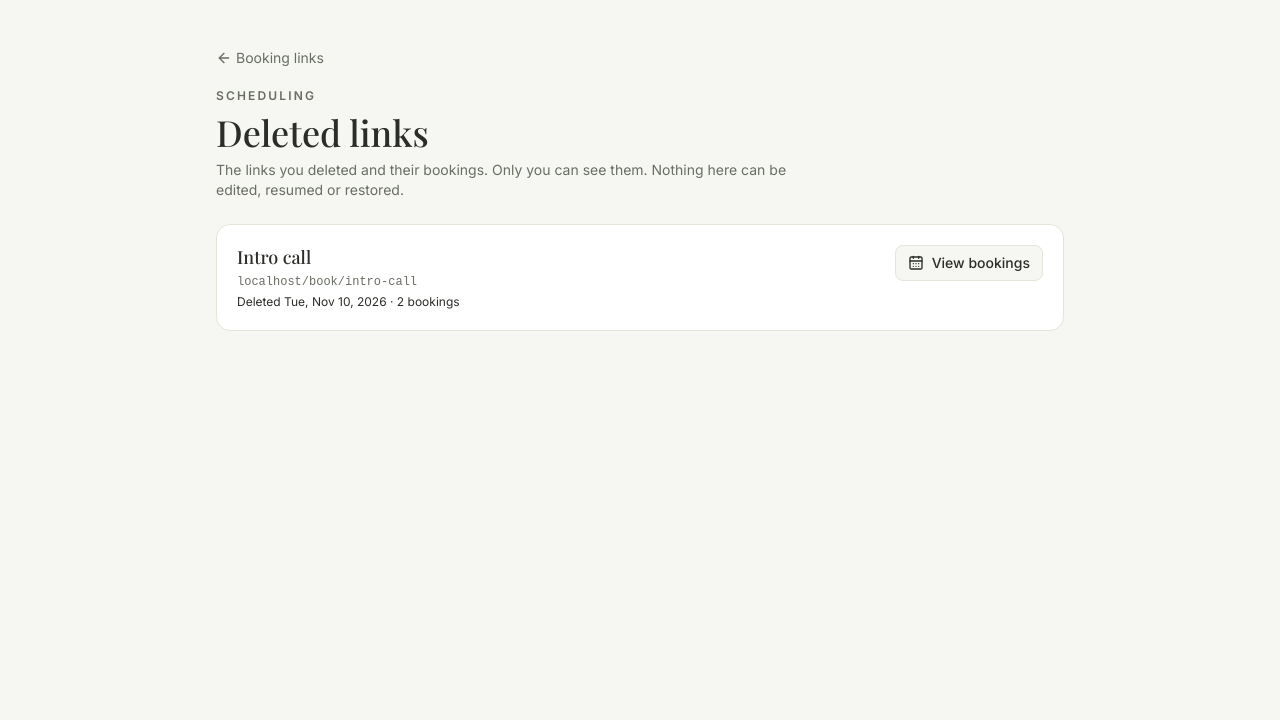
Test case: PAC-40 archive page › K4-7 on the detail: a body that fails the schema shows the detail as unavailable
Click the button with test id "archive-view-bookings" at x=969, y=263, box [895, 245, 1043, 281]
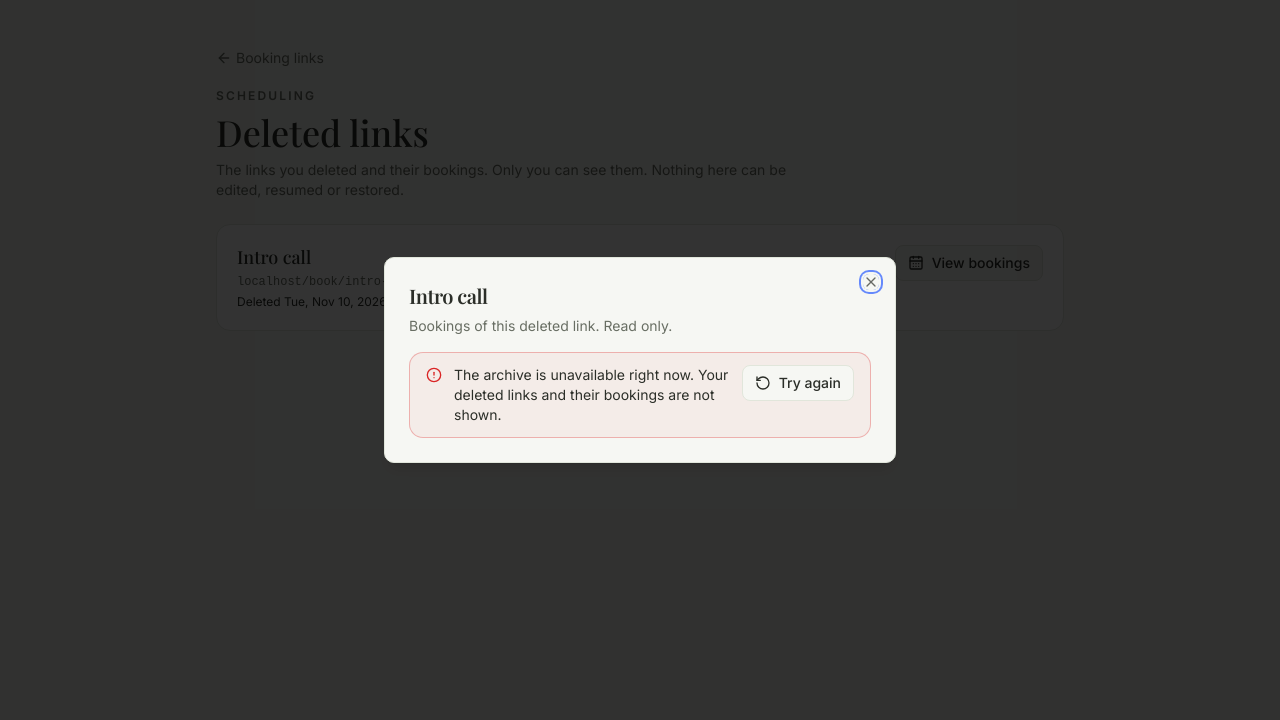
Result: the message with test id "archive-detail-unavailable" is shown at [409, 352, 871, 438]
